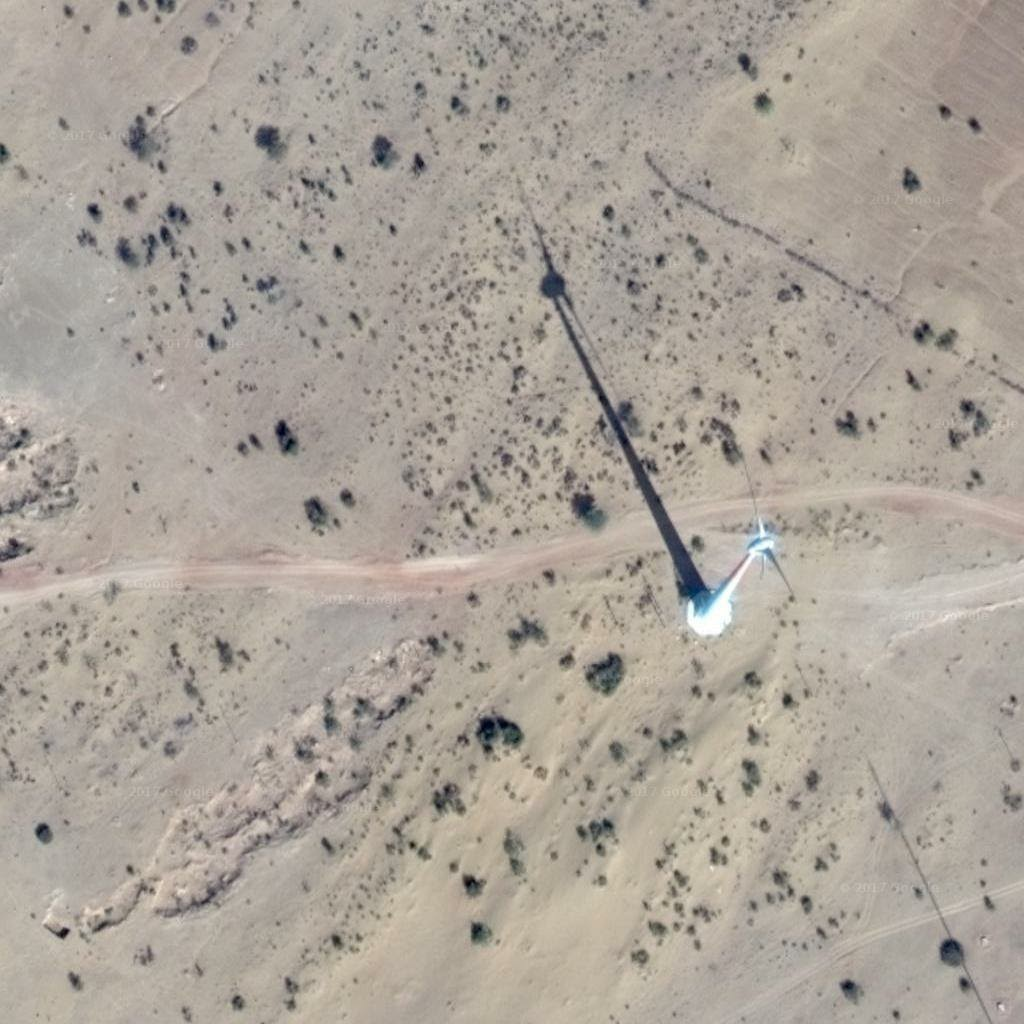Windmill: (516, 190, 716, 594)
